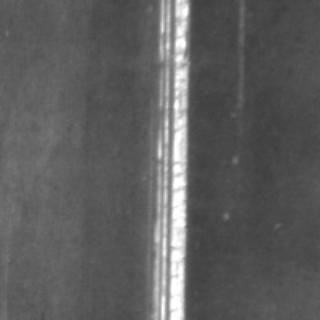scratches: (147, 0, 190, 316)
